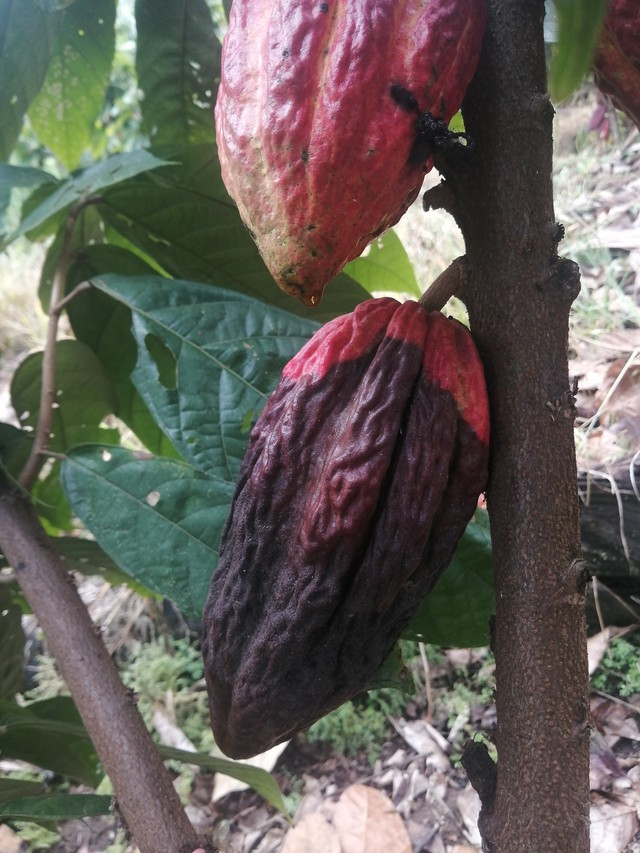phytophthora palmivora: (191, 291, 510, 763)
